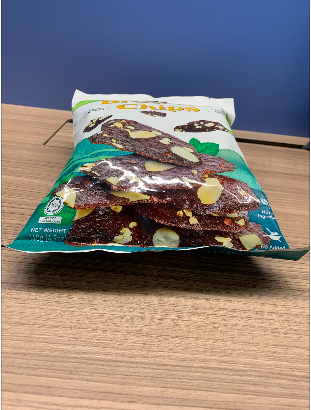Crackers_100-199g: (75, 95, 239, 231)
